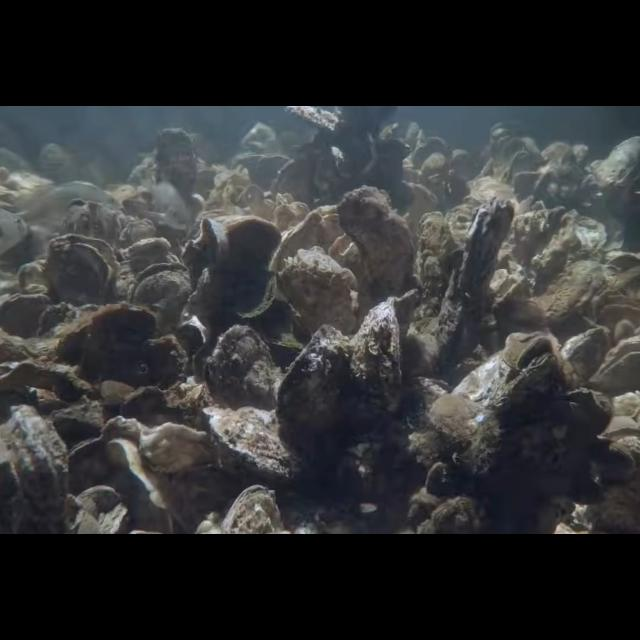Oyster-Closed: (436, 198, 514, 350), (274, 324, 354, 454), (336, 186, 414, 304), (0, 404, 68, 534), (201, 405, 305, 485), (276, 246, 360, 338), (55, 305, 158, 377), (204, 324, 276, 412), (349, 297, 401, 418), (224, 216, 282, 320), (523, 260, 609, 324), (416, 210, 462, 322), (558, 326, 612, 392), (218, 485, 284, 535), (135, 334, 189, 392), (0, 292, 52, 338)
Oyster-Open: (450, 332, 558, 416), (46, 233, 120, 307), (126, 260, 192, 336), (182, 217, 226, 286), (588, 336, 640, 390)
